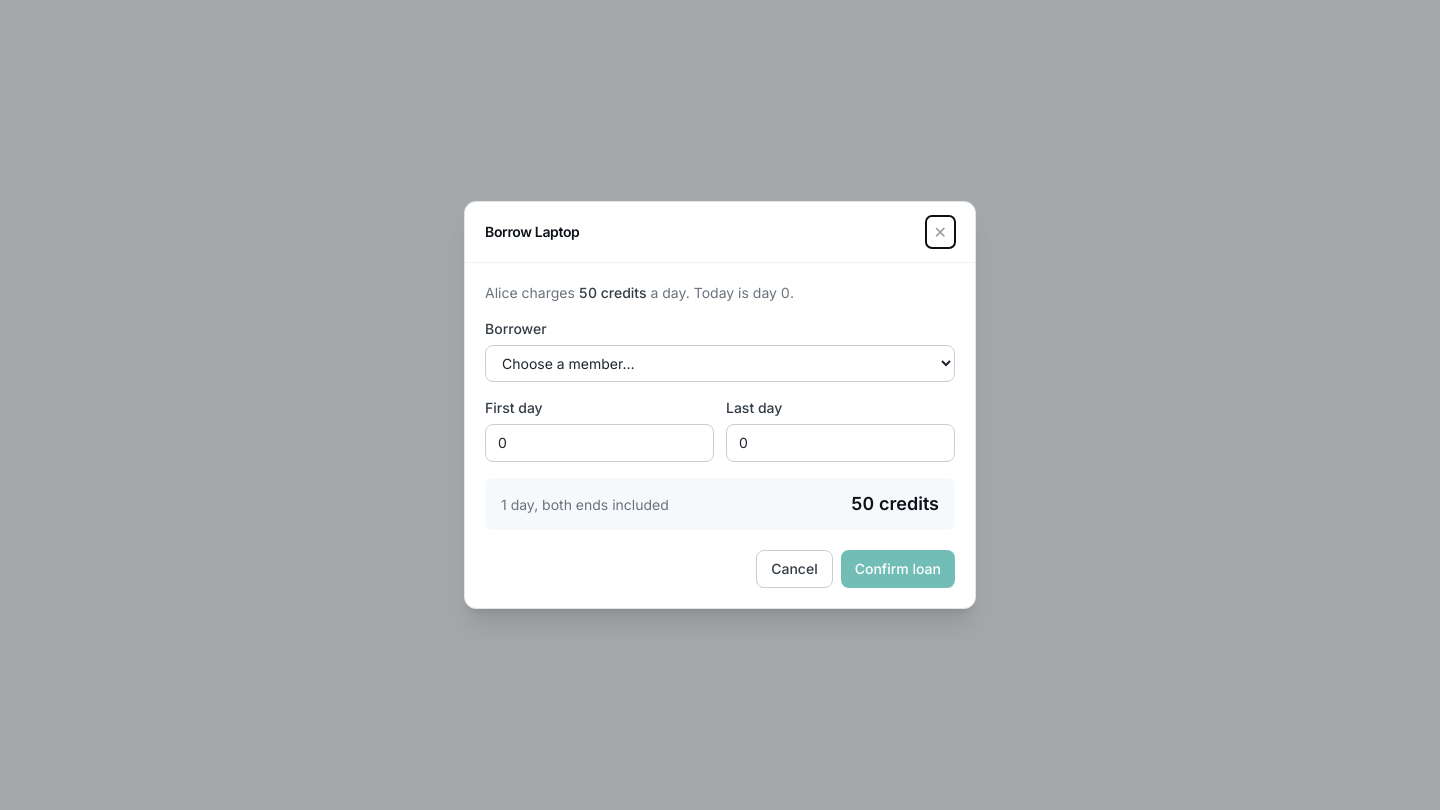
Test case: booking a loan › stays open and shows why when the API refuses
The image size is (1440, 810).
Select "Bob — 100 credits" in the dropdown labelled "Borrower" at (720, 364), box [485,345,955,382]
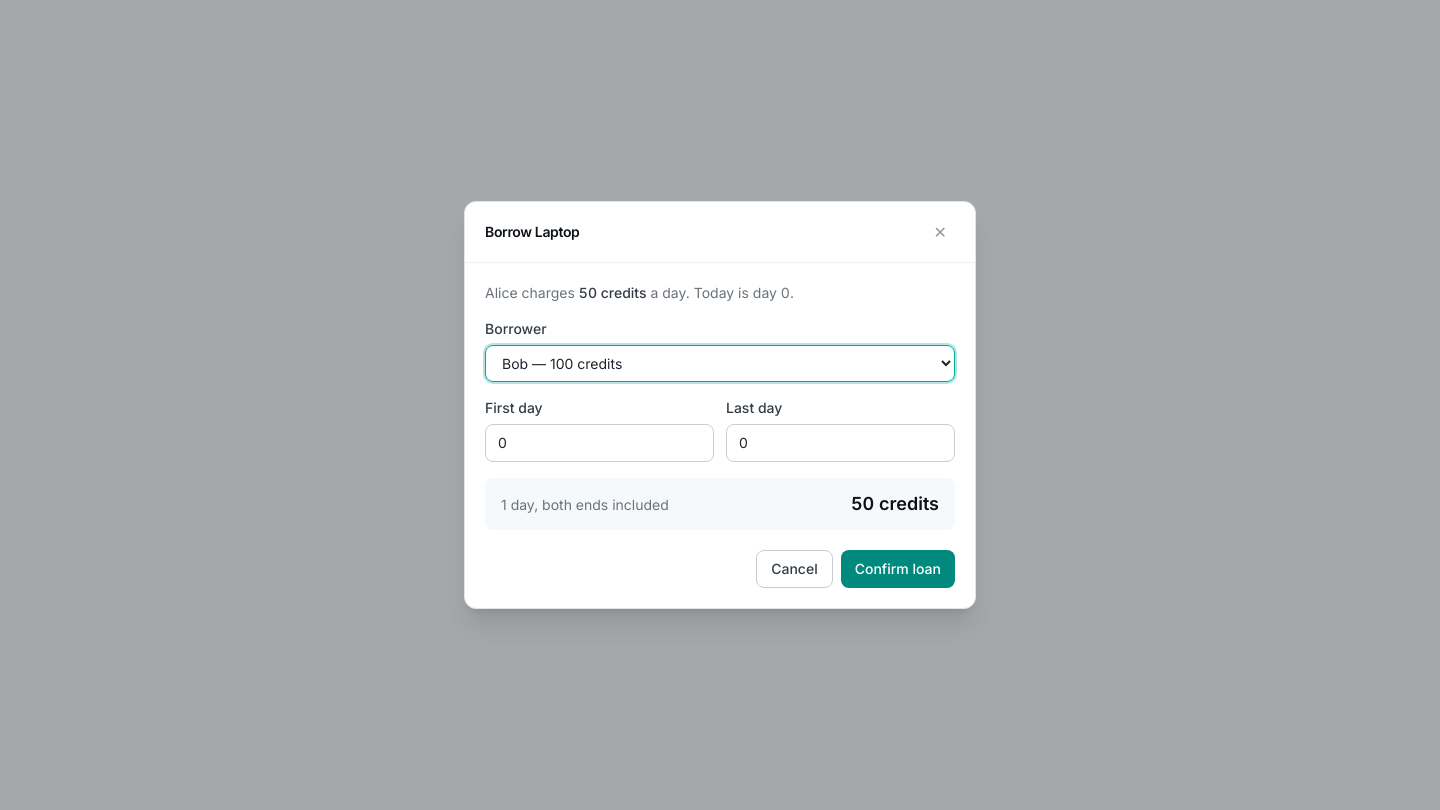
Click the button "Confirm loan".
click(898, 569)  # box [841,550,955,588]
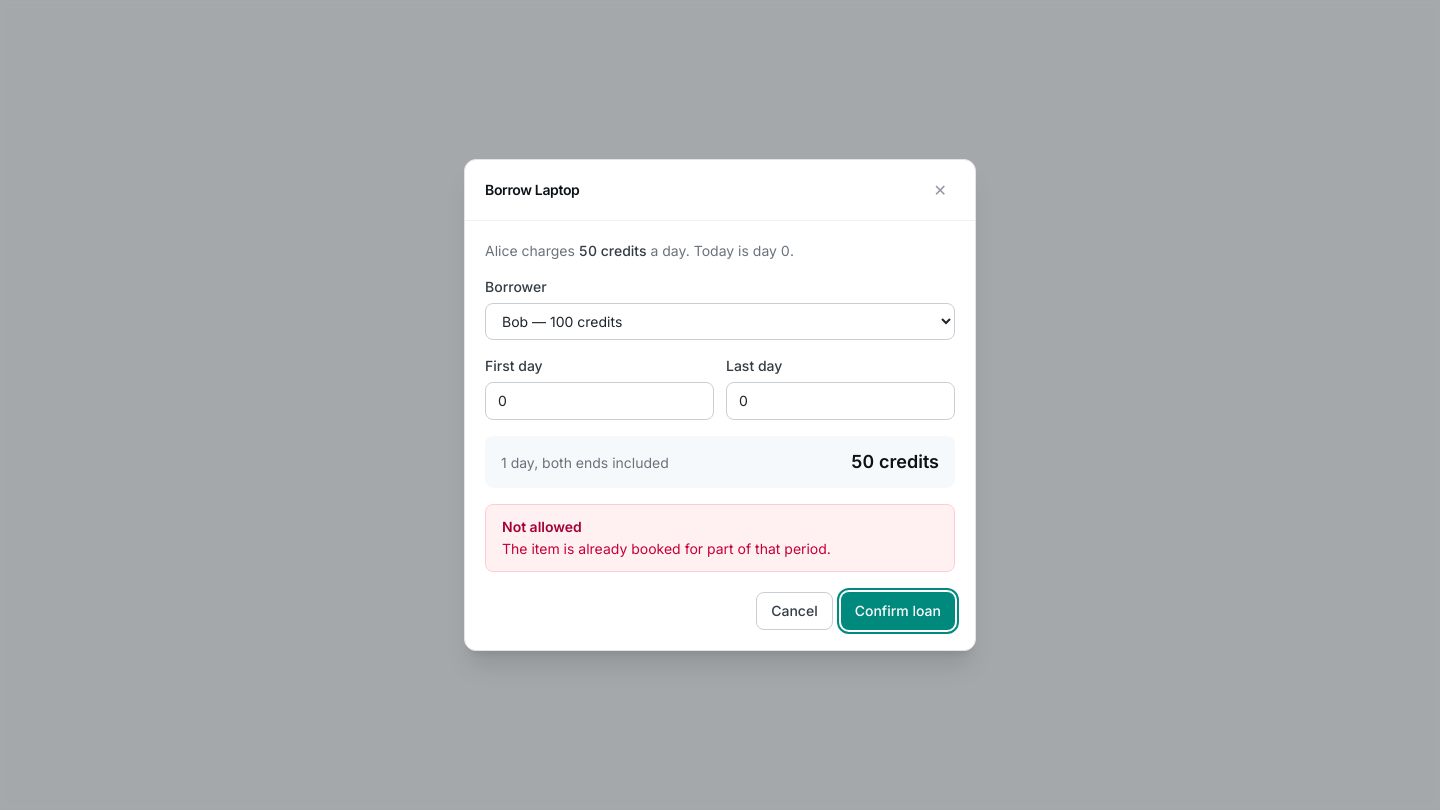
Check: the message "Not allowed The item is already booked for part of that period." is shown, box [485,504,955,572]
